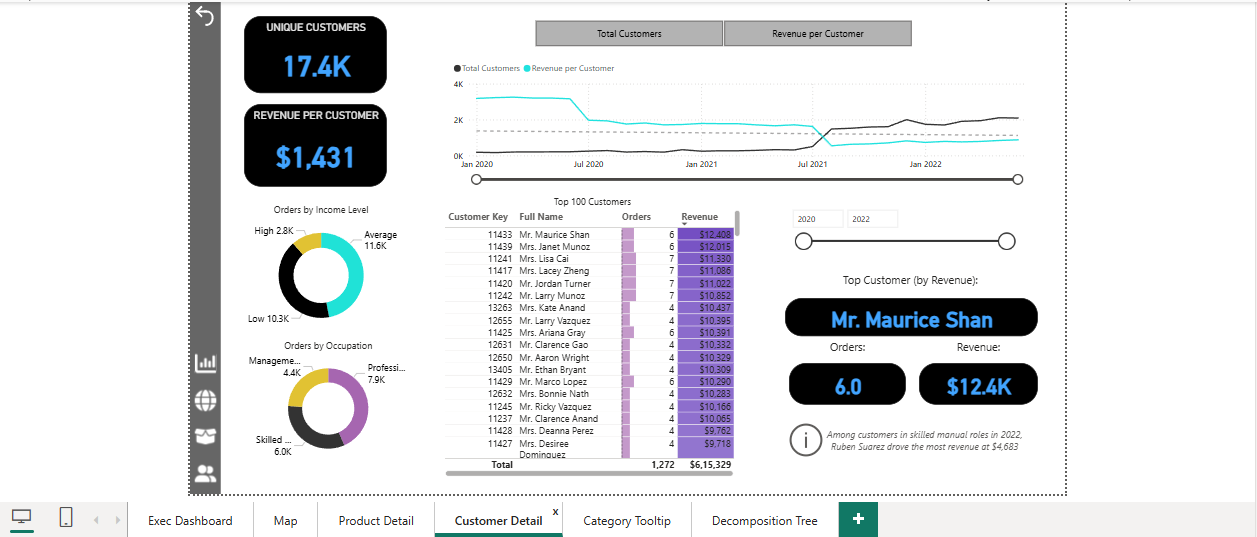

The page's visual inventory and layout, read from the dashboard file:
{"tool":"powerbi","page":{"name":"Customer Detail","canvas":[1280,720],"ordinal":3},"visuals":[{"type":"shape","box":[0,0,45,720],"z":0},{"type":"actionButton","box":[2.9,509.3,43.9,39.6],"z":1000,"group":"g1"},{"type":"lineChart","fields":{"Y":["Measure Table.Total Customers","Measure Table.Average Revenue per Customer"],"Category":["Calendar Lookup.Date Hierarchy.Start of Month","Calendar Lookup.Date Hierarchy.Start of Week","Calendar Lookup.Date Hierarchy.Date","Calendar Lookup.Date Hierarchy.Year"]},"box":[380.5,77.6,860.5,193.2],"z":1000},{"type":"actionButton","box":[2.9,616.6,43.9,39.6],"z":2000,"group":"g1"},{"type":"donutChart","title":"Orders by Income Level","fields":{"Category":["Customer Lookup.Income Level"],"Y":["Measure Table.Total Orders"]},"box":[60.5,294,263.7,194.9],"z":2000},{"type":"actionButton","box":[2.9,670.2,43.9,39.6],"z":3000,"group":"g1"},{"type":"donutChart","title":"Orders by Occupation","fields":{"Y":["Measure Table.Total Orders"],"Category":["Customer Lookup.Occupation"]},"box":[80.6,493.9,243.6,186.5],"z":3000},{"type":"actionButton","box":[2.9,562.9,43.9,39.6],"z":4000,"group":"g1"},{"type":"tableEx","title":"Top 100 Customers","fields":{"Values":["Customer Lookup.CustomerKey","Customer Lookup.Full Name","Measure Table.Total Orders","Measure Table.Total Revenue"]},"box":[367.3,282.4,443.4,417.1],"z":4000},{"type":"card","fields":{"Values":["Measure Table.Full Name (Customer Detail)"]},"box":[870.7,433.2,370.2,55.6],"z":5000},{"type":"textbox","box":[869.3,390.7,370.2,32.2],"z":6000},{"type":"textbox","box":[876.6,488.8,171.2,39.5],"z":7000},{"type":"textbox","box":[1066.8,488.8,174.1,39.5],"z":8000},{"type":"card","fields":{"Values":["Measure Table.Total Orders (Customer Detail)"]},"box":[876.6,528.3,171.2,61.5],"z":9000},{"type":"card","fields":{"Values":["Measure Table.Total Revenue (Customer Detail)"]},"box":[1066.8,528.3,174.1,61.5],"z":10000},{"type":"actionButton","box":[870.7,610.2,352.7,61.5],"z":11000},{"type":"actionButton","box":[1.2,0,45,40],"z":12000},{"type":"group","id":"g1","title":"Navigation Buttons","box":[2.9,509.3,43.9,200.5],"z":13000},{"type":"card","title":"UNIQUE CUSTOMERS","fields":{"Values":["Measure Table.Total Customers"]},"box":[79,20.5,209.3,112.7],"z":14000},{"type":"card","title":"REVENUE PER CUSTOMER","fields":{"Values":["Measure Table.Average Revenue per Customer"]},"box":[79,149.3,209.3,121.5],"z":15000},{"type":"slicer","fields":{"Values":["Customer Metric Selection.Customer Metric Selection"]},"box":[480,20.5,600,51.2],"z":16000},{"type":"slicer","fields":{"Values":["Calendar Lookup.Year"]},"box":[869.3,294.1,346.8,76.1],"z":17000}]}

Visuals, with their boxes on the page's 1280x720 design canvas (x1, y1, x2, y2). These are canvas units, not pixel positions in the 1257x537 screenshot, which may show the page scaled, cropped or inside an application window:
shape: crop(0, 0, 45, 720)
actionButton: crop(3, 509, 47, 549)
lineChart - Measure Table.Total Customers x Measure Table.Average Revenue per Customer: crop(380, 78, 1241, 271)
actionButton: crop(3, 617, 47, 656)
"Orders by Income Level" donutChart: crop(60, 294, 324, 489)
actionButton: crop(3, 670, 47, 710)
"Orders by Occupation" donutChart: crop(81, 494, 324, 680)
actionButton: crop(3, 563, 47, 602)
"Top 100 Customers" tableEx: crop(367, 282, 811, 700)
card - Measure Table.Full Name (Customer Detail): crop(871, 433, 1241, 489)
textbox: crop(869, 391, 1240, 423)
textbox: crop(877, 489, 1048, 528)
textbox: crop(1067, 489, 1241, 528)
card - Measure Table.Total Orders (Customer Detail): crop(877, 528, 1048, 590)
card - Measure Table.Total Revenue (Customer Detail): crop(1067, 528, 1241, 590)
actionButton: crop(871, 610, 1223, 672)
actionButton: crop(1, 0, 46, 40)
"Navigation Buttons" group: crop(3, 509, 47, 710)
"UNIQUE CUSTOMERS" card: crop(79, 20, 288, 133)
"REVENUE PER CUSTOMER" card: crop(79, 149, 288, 271)
slicer - Customer Metric Selection.Customer Metric Selection: crop(480, 20, 1080, 72)
slicer - Calendar Lookup.Year: crop(869, 294, 1216, 370)
